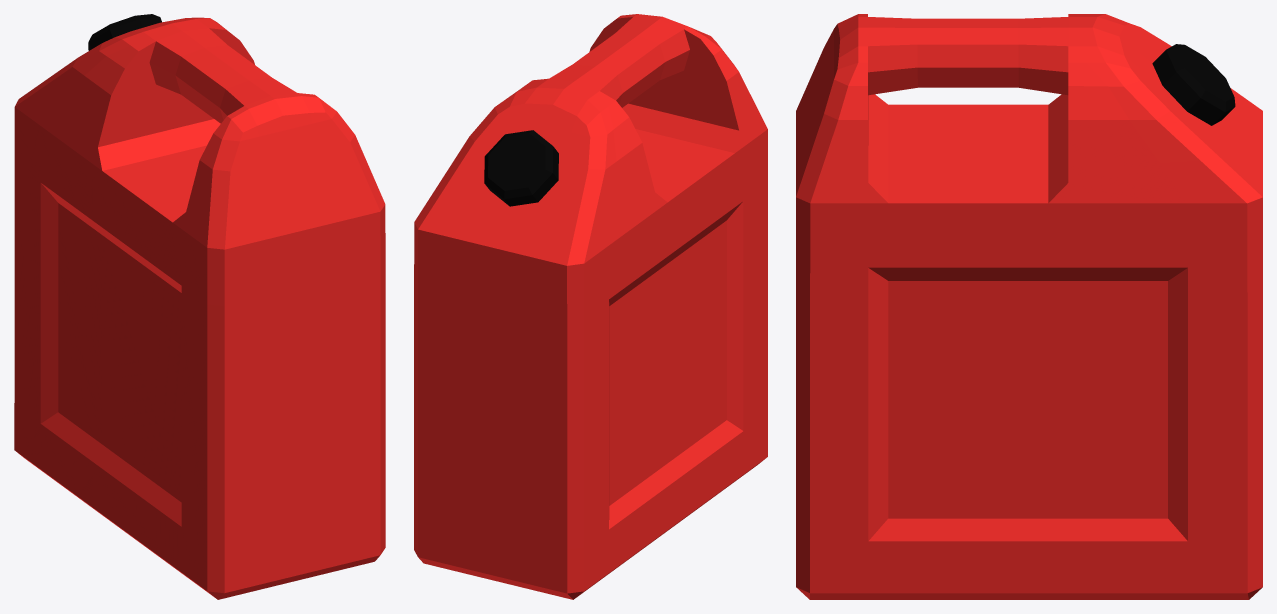
File: gas.fbx
3 views of the same model, side by side, from view 1: azimuth 30°, elevation 25°; view 2: azimuth 150°, elevation 25°; view 3: azimuth 270°, elevation 25° (orthographic). The views are drawn at different scales.
Visible parts, largest first — view 1: Gas; view 2: Gas; view 3: Gas.
Part boxes in pixels (bbox=[...]): Gas: bbox=[14, 14, 385, 599]; Gas: bbox=[414, 14, 767, 599]; Gas: bbox=[796, 14, 1262, 599].
Bounding box in the file's own units: 40 × 100 × 80.
